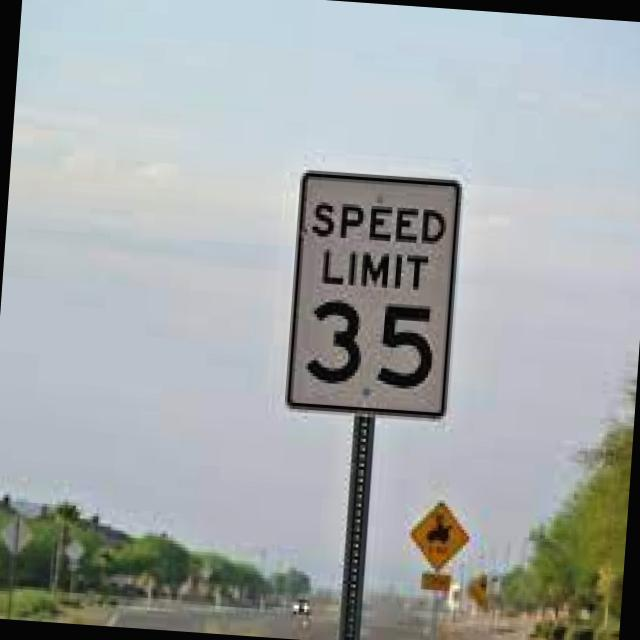Speed Limit Signs: (281, 165, 465, 422)
